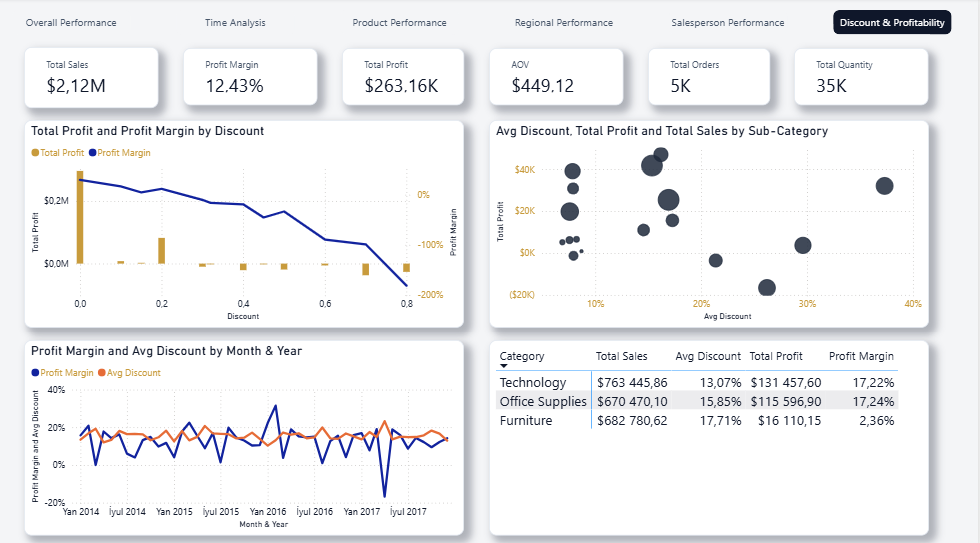

What the dashboard file says about the page in this screenshot:
{"tool":"powerbi","page":{"name":"Page 1","canvas":[1280,720],"ordinal":0},"visuals":[{"type":"cardVisual","fields":{"Data":["__Measures.Total Sales"]},"box":[32,64,176,80],"z":0},{"type":"cardVisual","fields":{"Data":["__Measures.Profit Margin"]},"box":[240,65,176,75],"z":1000},{"type":"cardVisual","fields":{"Data":["__Measures.Total Profit"]},"box":[448,65,160,75],"z":2000},{"type":"cardVisual","fields":{"Data":["__Measures.AOV"]},"box":[640,65,176,75],"z":3000},{"type":"cardVisual","fields":{"Data":["__Measures.Total Quantity"]},"box":[1040,65,176,75],"z":4000},{"type":"cardVisual","fields":{"Data":["__Measures.Total Orders"]},"box":[848,65,160,75],"z":5000},{"type":"scatterChart","fields":{"Category":["SalesData.Sub-Category"],"X":["__Measures.Avg Discount"],"Y":["__Measures.Total Profit"],"Size":["__Measures.Total Sales"]},"box":[640,160,576,272],"z":14000},{"type":"lineClusteredColumnComboChart","fields":{"Category":["SalesData.Discount"],"Y":["__Measures.Total Profit"],"Y2":["__Measures.Profit Margin"]},"box":[32,160,576,272],"z":15000},{"type":"bookmarkNavigator","box":[16,16,1232,32],"z":16000},{"type":"lineChart","fields":{"Category":["CalendarTable.Month & Year"],"Y":["__Measures.Profit Margin","__Measures.Avg Discount"]},"box":[32,448,576,256],"z":29000},{"type":"pivotTable","fields":{"Rows":["SalesData.Category"],"Values":["__Measures.Total Sales","__Measures.Avg Discount","__Measures.Total Profit","__Measures.Profit Margin"]},"box":[640,448,576,256],"z":30000}]}

Visuals, with their boxes in screenshot pixels (x1, y1, x2, y2), scaled from the page's 1280x720 canvas onto the 980x543 screenshot:
cardVisual - __Measures.Total Sales: box(24, 48, 159, 109)
cardVisual - __Measures.Profit Margin: box(184, 49, 318, 106)
cardVisual - __Measures.Total Profit: box(343, 49, 466, 106)
cardVisual - __Measures.AOV: box(490, 49, 625, 106)
cardVisual - __Measures.Total Quantity: box(796, 49, 931, 106)
cardVisual - __Measures.Total Orders: box(649, 49, 772, 106)
scatterChart - SalesData.Sub-Category x __Measures.Avg Discount: box(490, 121, 931, 326)
lineClusteredColumnComboChart - SalesData.Discount x __Measures.Total Profit: box(24, 121, 466, 326)
bookmarkNavigator: box(12, 12, 956, 36)
lineChart - CalendarTable.Month & Year x __Measures.Profit Margin: box(24, 338, 466, 531)
pivotTable - SalesData.Category x __Measures.Total Sales: box(490, 338, 931, 531)
